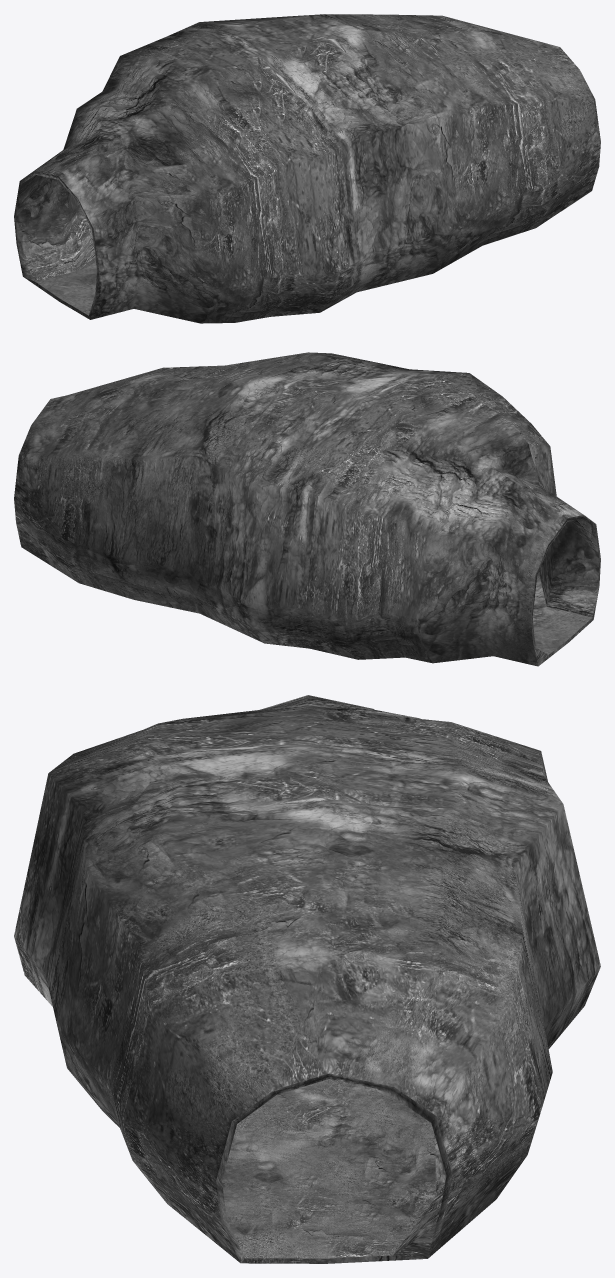
The model's file is cavelargeroom2.fbx.
The picture shows the model from 3 angles, top to bottom: view 1: azimuth 30°, elevation 25°; view 2: azimuth 150°, elevation 25°; view 3: azimuth 270°, elevation 25°; orthographic projection. The views are drawn at different scales.
Visible parts, largest first — view 1: cavelarge; view 2: cavelarge; view 3: cavelarge.
Part boxes in pixels (x1,y1,x2,y2): cavelarge: [14, 14, 600, 323]; cavelarge: [14, 352, 600, 666]; cavelarge: [14, 695, 600, 1263].
Bounding box in the file's own units: 392 × 140 × 253.
2 materials, 2 textured.
